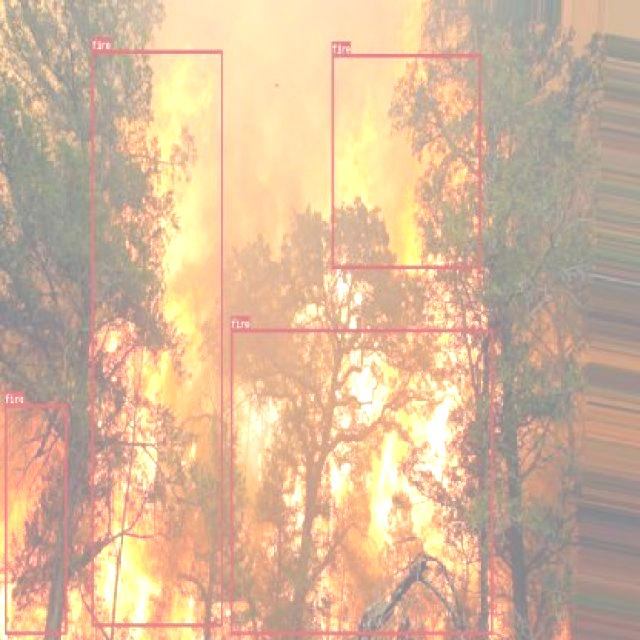fire: (230, 328, 493, 634), (91, 49, 222, 626), (331, 53, 480, 269), (4, 403, 67, 634)
